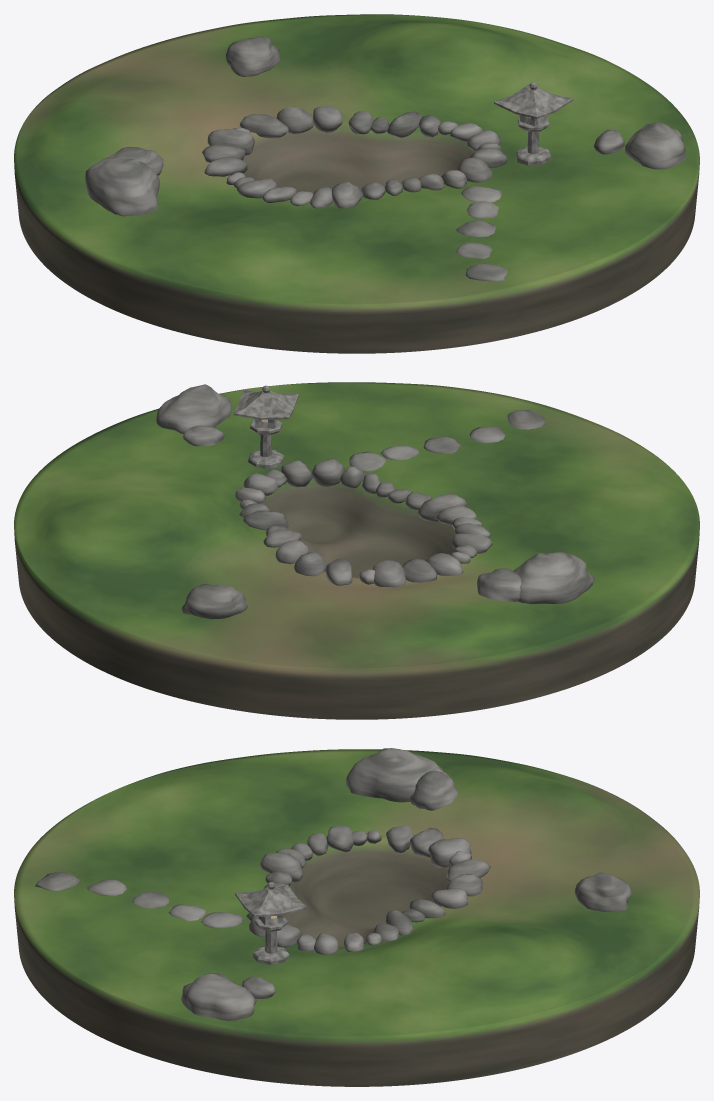
The model's file is garden.glb.
3 renders of one model, top to bottom at view 1: azimuth 30°, elevation 25°; view 2: azimuth 150°, elevation 25°; view 3: azimuth 270°, elevation 25°, orthographic.
Parts seen in each view (by area): view 1: Ground, Stones, Lantern; view 2: Ground, Stones, Lantern; view 3: Ground, Stones, Lantern.
Boxes of the visible parts, bbox=[...] form: Ground: bbox=[14, 14, 699, 353]; Stones: bbox=[85, 36, 686, 281]; Lantern: bbox=[494, 82, 573, 165]; Ground: bbox=[14, 382, 699, 719]; Stones: bbox=[156, 384, 594, 619]; Lantern: bbox=[233, 385, 298, 469]; Ground: bbox=[14, 749, 699, 1086]; Stones: bbox=[35, 748, 632, 1020]; Lantern: bbox=[235, 882, 307, 964].
Size of the model in its own units: 12 by 2.46 by 12.
Materials: 4 (3 with a texture image).
